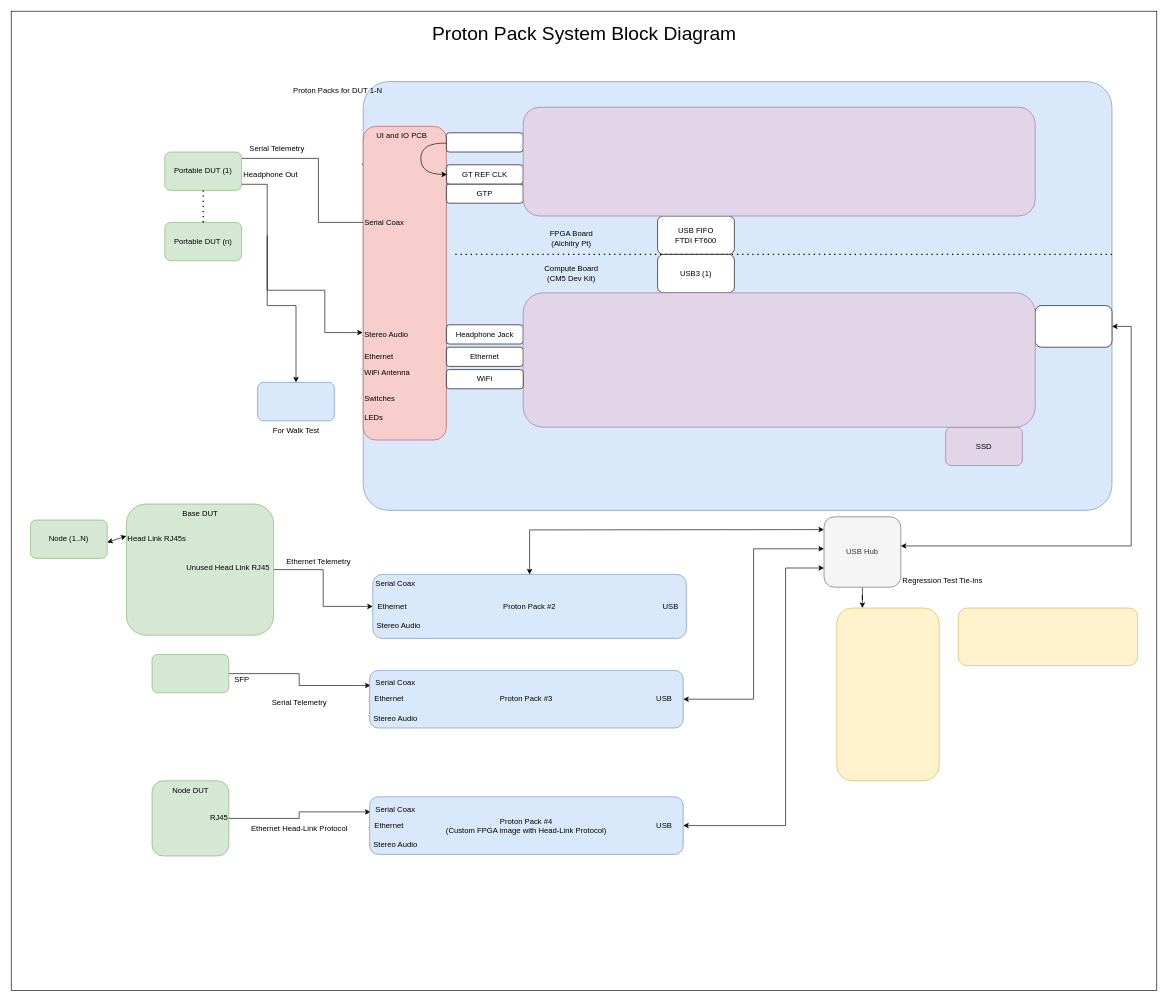
The diagram is 1168 pixels wide and 1002 high, and some of its shapes have lost their labels. The shapes that lost their labels are listed below. From the top down, each one's centre as x and y in pixels, then its label:
[484,142]: 128MHz MMCM
[779,161]: Xilinx FPGA XC7A100T-2FGG841
[1073,326]: USB3 (2)
[779,359]: Raspberry Pi CM5
[295,401]: Headphones
[1048,636]: Dante Recorder (AP)
[190,673]: RF SoC
[887,694]: Lab/User Analysis PC
